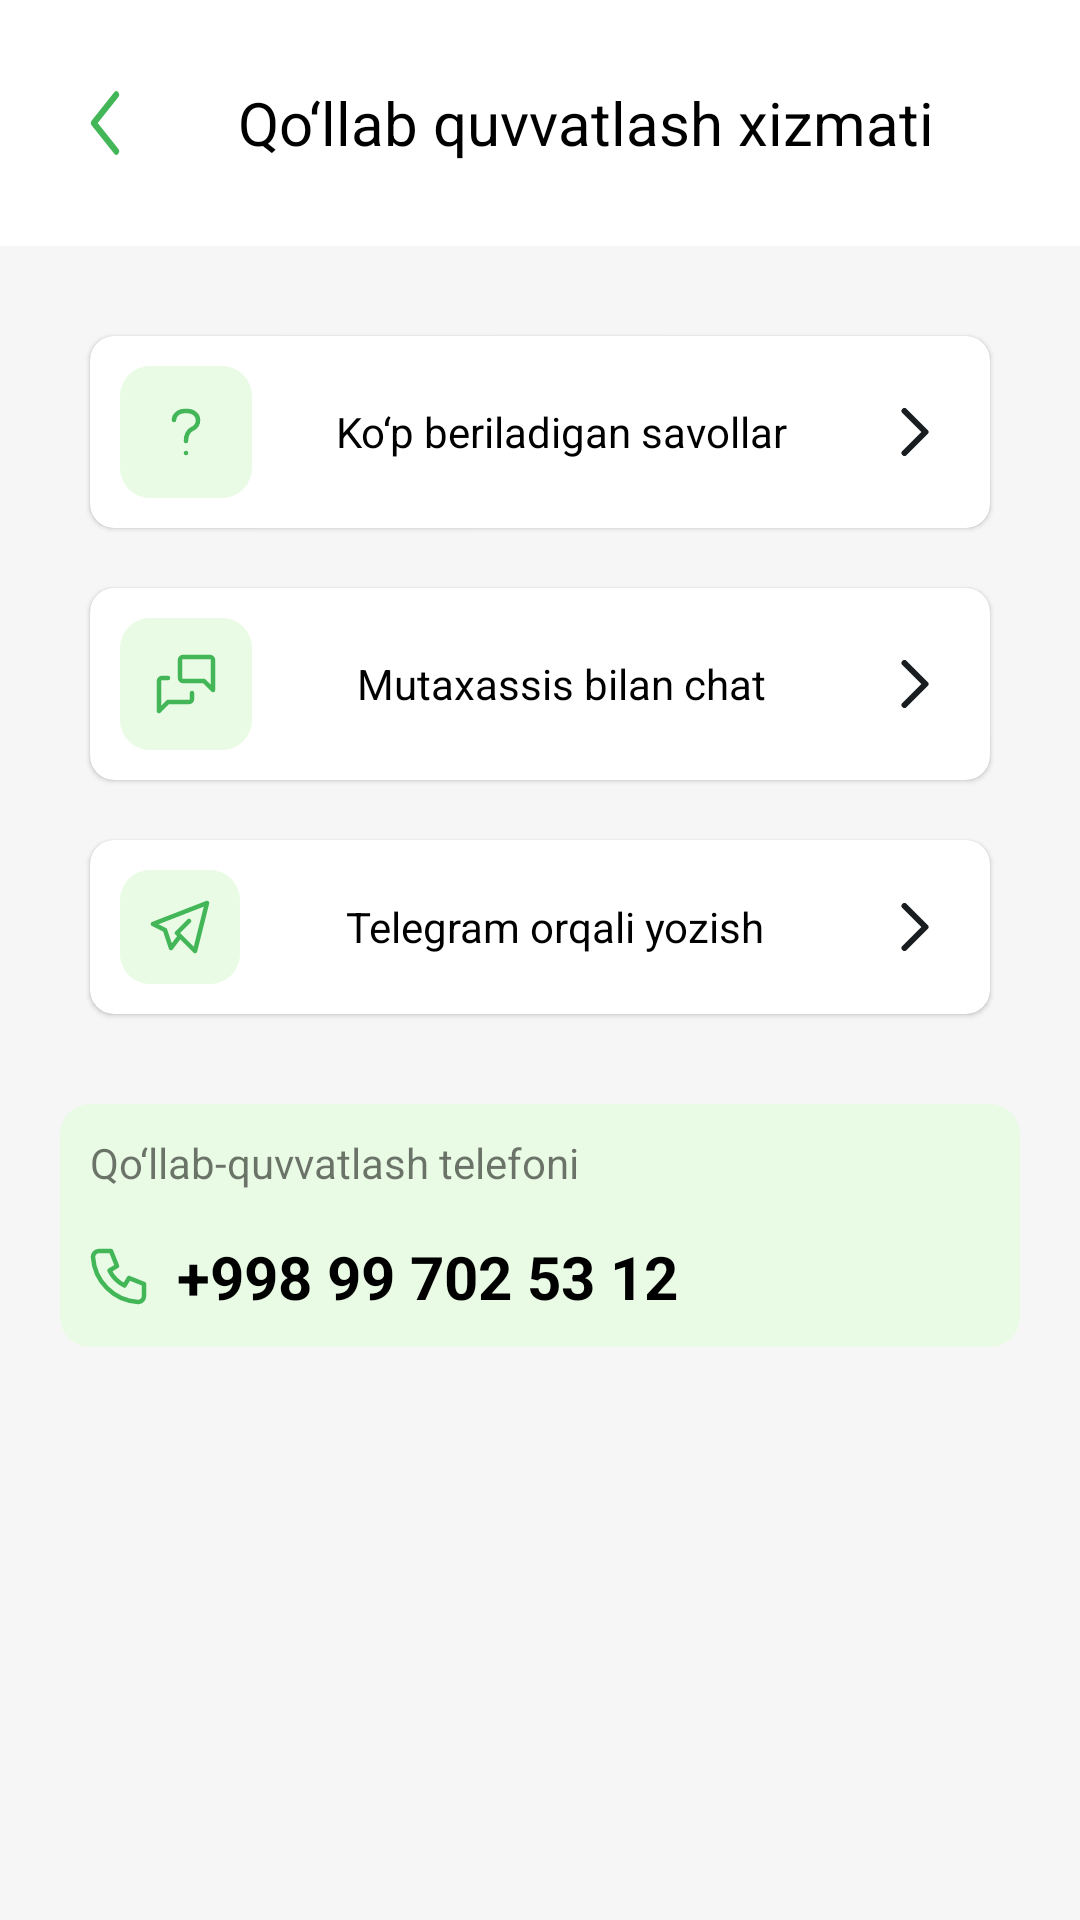

Where to tap for icons on this 1080px×1920px app screen, as point (x, y):
back: point (105, 123)
phone: point (118, 1276)
question: point (186, 432)
rigth: point (915, 432), point (915, 684), point (915, 927)
